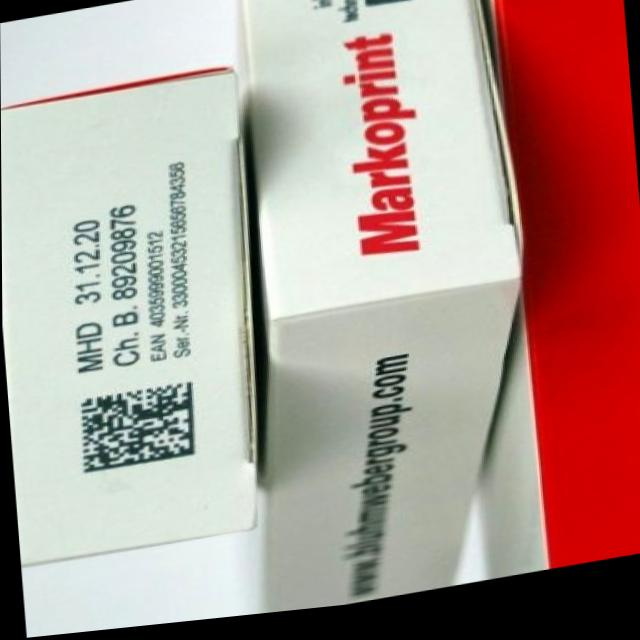datamatrix: (66, 379, 207, 483)
